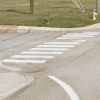crosswalk: (1, 32, 97, 63)
